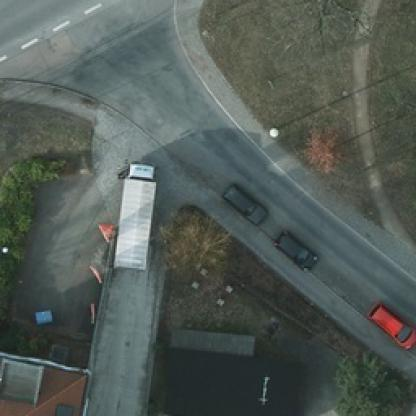car: (366, 297, 414, 351), (220, 180, 264, 224), (270, 232, 318, 268)
